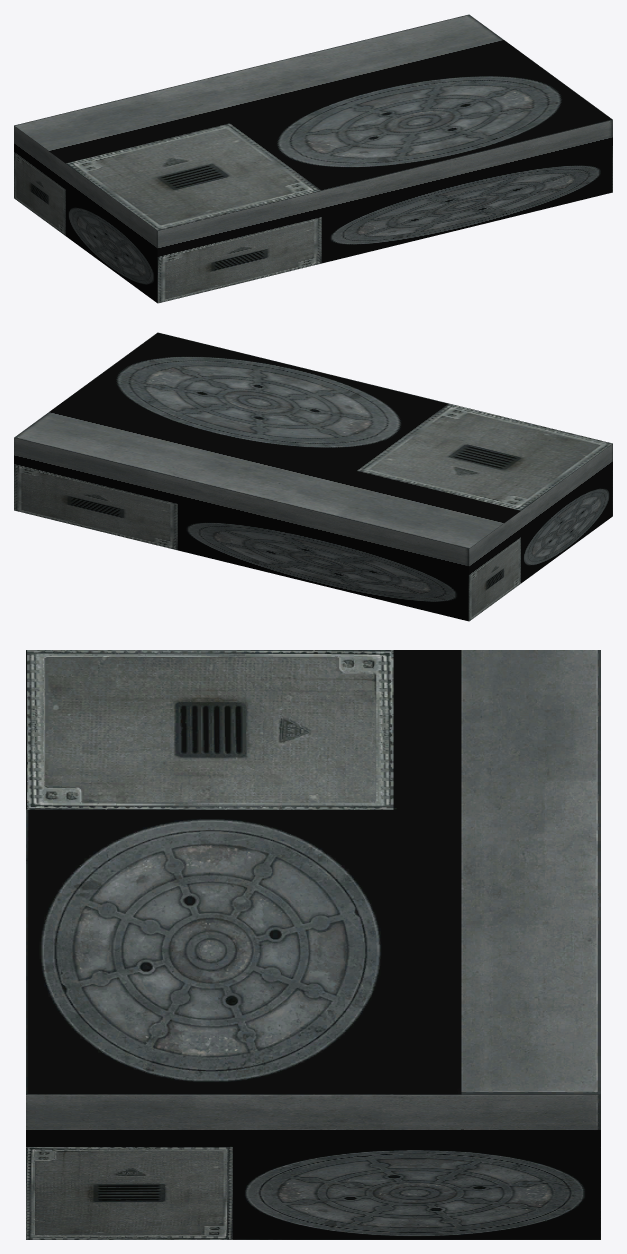
Rendered from Sidewalk_1meter.DAE.
3 renders of one model, top to bottom at view 1: azimuth 30°, elevation 25°; view 2: azimuth 150°, elevation 25°; view 3: azimuth 270°, elevation 25°, orthographic. The views are drawn at different scales.
Parts seen in each view (by area): view 1: bounds; view 2: bounds; view 3: bounds.
Boxes of the visible parts, x1=… form: bounds: x1=14, y1=14, x2=612, y2=303; bounds: x1=14, y1=332, x2=612, y2=621; bounds: x1=26, y1=650, x2=600, y2=1239.
Bounding box in the file's own units: 198 × 108 × 30.26.
